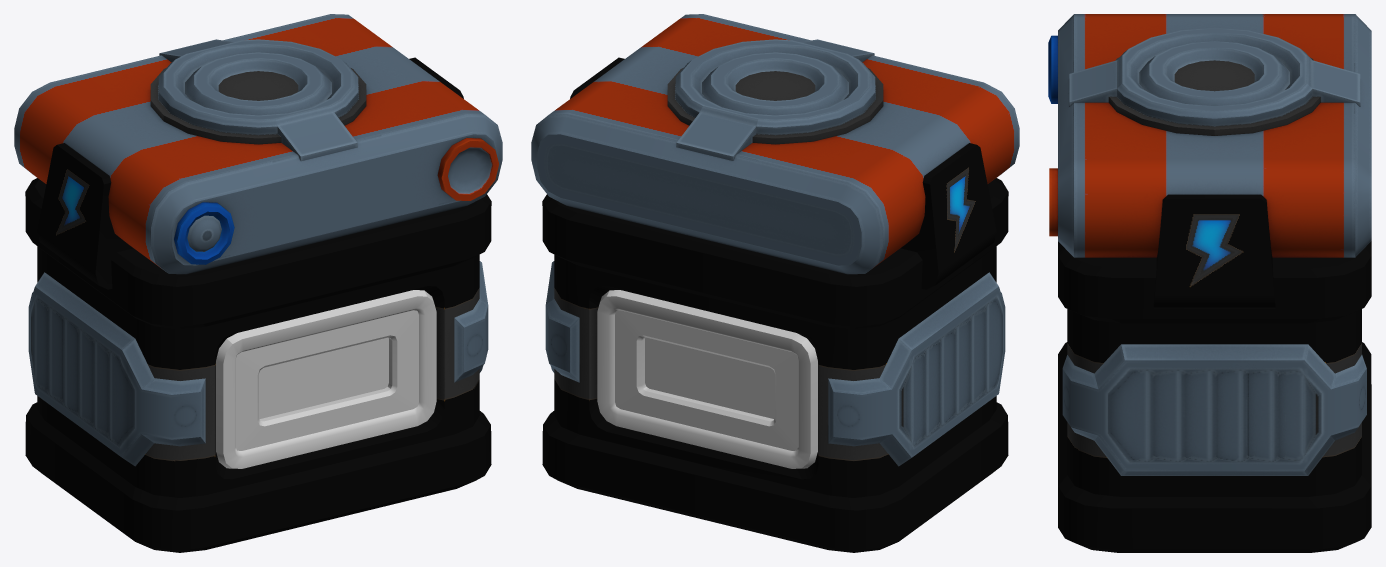
The model's file is obj_factory_storagebattery_01.fbx.
3 renders of one model, left to right at view 1: azimuth 30°, elevation 25°; view 2: azimuth 150°, elevation 25°; view 3: azimuth 270°, elevation 25°, orthographic. The views are drawn at different scales.
Visible parts, largest first — view 1: obj_factory_storagebattery_01_lp, meter; view 2: obj_factory_storagebattery_01_lp, meter; view 3: obj_factory_storagebattery_01_lp.
Boxes of the visible parts, x1,y1,x2,y2 form: obj_factory_storagebattery_01_lp: (14,14,502,552); meter: (216,290,436,468); obj_factory_storagebattery_01_lp: (531,14,1019,552); meter: (597,290,817,468); obj_factory_storagebattery_01_lp: (1048,14,1371,552).
Bounding box in the file's own units: 4.37 × 4.2 × 3.09.
